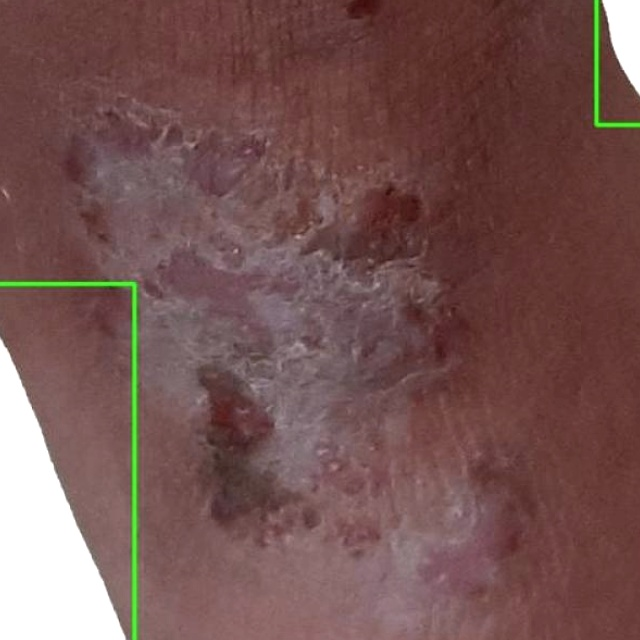Contact Dermatitis: (0, 283, 134, 639)
